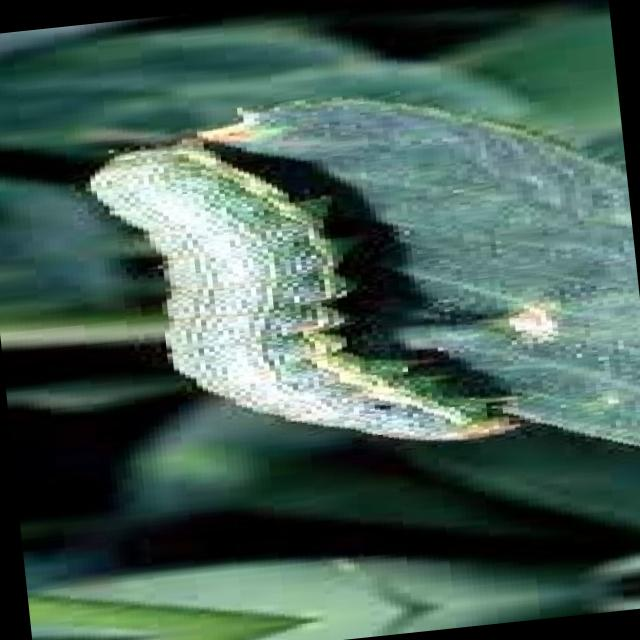Armyworm: (58, 100, 526, 497)
